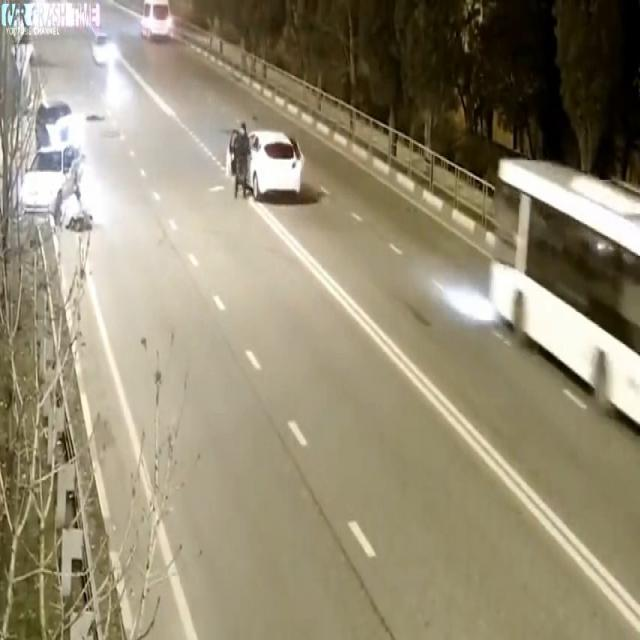Accident: (12, 92, 100, 251)
